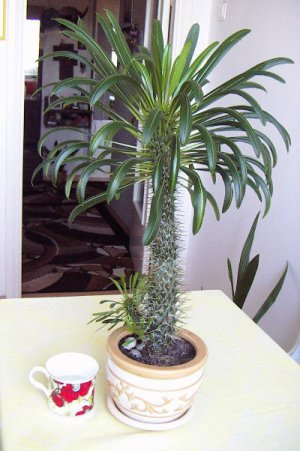Pachypodium lamerei Drake: (85, 48, 277, 347)
